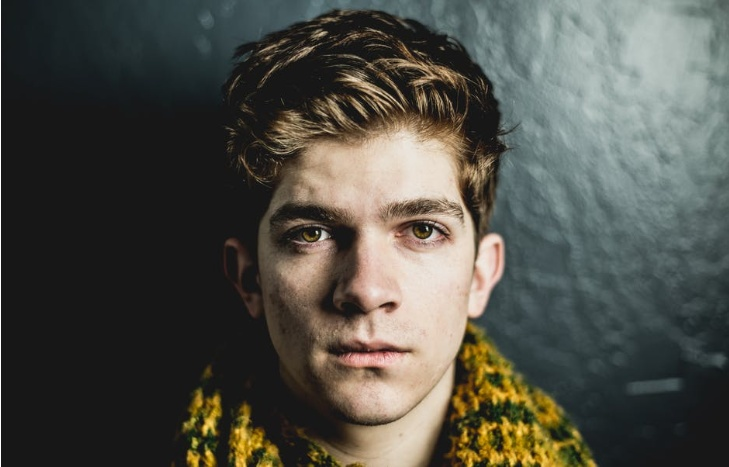face: (262, 126, 467, 420)
